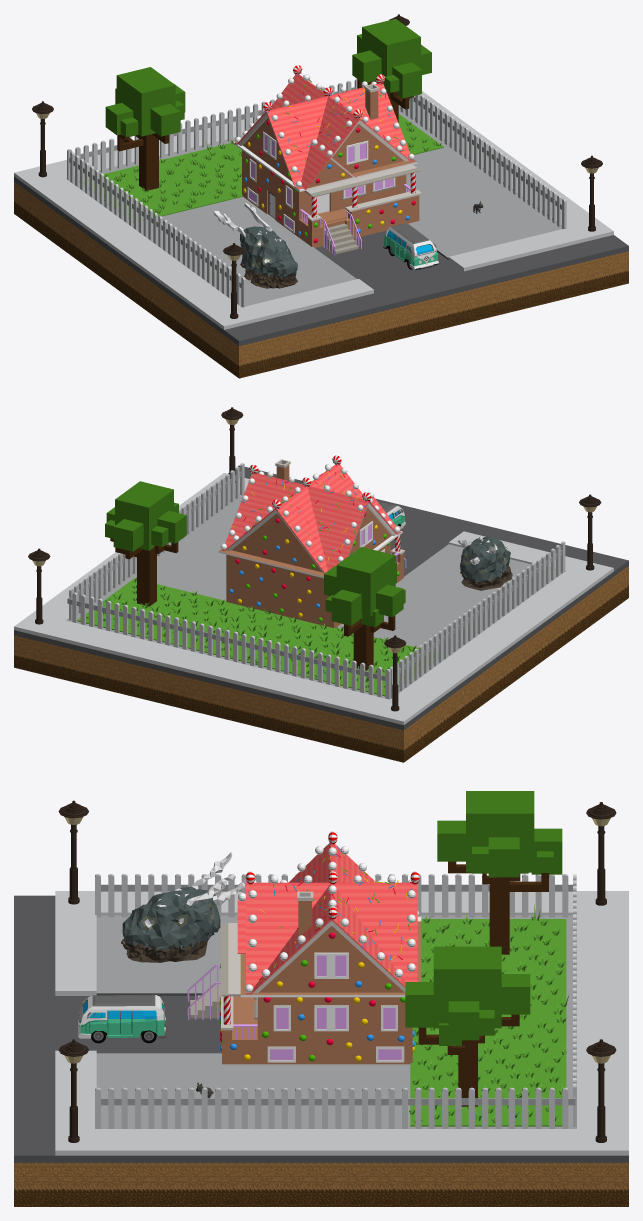
The picture shows the model from 3 angles, top to bottom: view 1: azimuth 30°, elevation 25°; view 2: azimuth 150°, elevation 25°; view 3: azimuth 270°, elevation 25°; orthographic projection. The views are drawn at different scales.
Parts seen in each view (by area): view 1: Cube.004, Cube.1203, OBJRANDOM_METEORITE, VEHICLES_VAN; view 2: Cube.004, Cube.1203, OBJRANDOM_METEORITE; view 3: Cube.004, Cube.1203, OBJRANDOM_METEORITE, VEHICLES_VAN.
Boxes of the visible parts, <box> form: Cube.004: <box>14,14,628,378</box>; Cube.1203: <box>233,65,422,255</box>; OBJRANDOM_METEORITE: <box>213,203,297,288</box>; VEHICLES_VAN: <box>383,223,438,270</box>; Cube.004: <box>14,407,628,762</box>; Cube.1203: <box>218,455,406,627</box>; OBJRANDOM_METEORITE: <box>457,536,512,590</box>; Cube.004: <box>14,791,628,1206</box>; Cube.1203: <box>187,831,421,1064</box>; OBJRANDOM_METEORITE: <box>121,852,246,962</box>; VEHICLES_VAN: <box>78,994,166,1043</box>.
Bounding box in the file's own units: 4000 × 1602 × 4000.
Materials: 44 (4 with a texture image).
